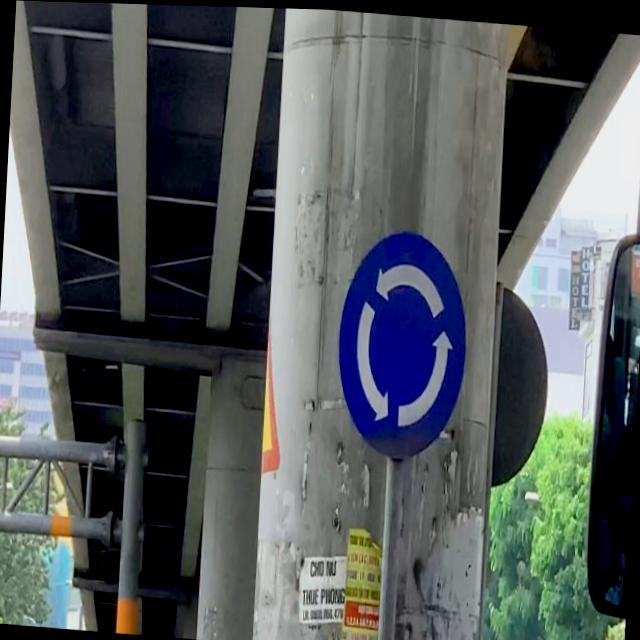Noi giao nhau chay theo vong xuyen: (331, 226, 476, 467)
